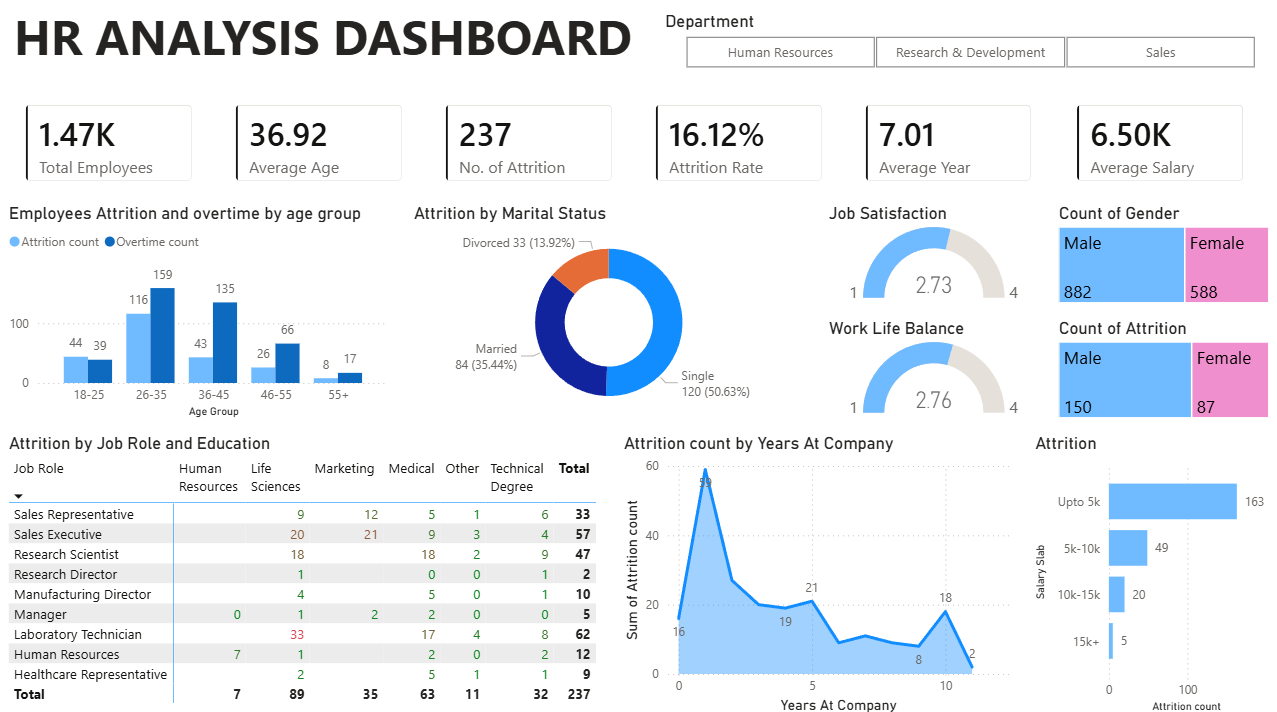

The page's visual inventory and layout, read from the dashboard file:
{"tool":"powerbi","page":{"name":"Page 1","canvas":[1280,720],"ordinal":0},"visuals":[{"type":"textbox","box":[9.8,0,651.8,75.8],"z":0},{"type":"slicer","title":"Department","fields":{"Values":["HR_Analytics.Department"]},"box":[661.6,12.2,618.8,63.6],"z":1000},{"type":"cardVisual","fields":{"Data":["Count(HR_Analytics.EmpID)"]},"box":[10,90.5,200.5,110.1],"z":2000},{"type":"cardVisual","fields":{"Data":["Avg(HR_Analytics.Age)"]},"box":[220,90.5,200.5,110.1],"z":3000},{"type":"cardVisual","fields":{"Data":["Sum(HR_Analytics.Attrition count)"]},"box":[430,90.5,200.5,110.1],"z":4000},{"type":"cardVisual","fields":{"Data":["HR_Analytics.Attrition Rate"]},"box":[640,90.5,200.5,110.1],"z":5000},{"type":"treemap","title":"Count of Gender","fields":{"Group":["HR_Analytics.Gender"],"Values":["CountNonNull(HR_Analytics.Gender)"]},"box":[1055.5,205,220,105],"z":6000},{"type":"treemap","title":"Count of Attrition","fields":{"Group":["HR_Analytics.Gender"],"Values":["Sum(HR_Analytics.Attrition count)"]},"box":[1055.5,320.1,220,105],"z":7000},{"type":"clusteredColumnChart","title":"Employees Attrition and overtime by age group","fields":{"Category":["HR_Analytics.AgeGroup","HR_Analytics.MaritalStatus","HR_Analytics.EducationField","HR_Analytics.DistanceFromHome"],"Y":["Sum(HR_Analytics.Attrition count)","Sum(HR_Analytics.Overtime count)"]},"box":[5,205,390,220],"z":8000},{"type":"gauge","title":"Job Satisfaction","fields":{"Y":["Avg(HR_Analytics.JobSatisfaction)"],"MinValue":["Min(HR_Analytics.JobSatisfaction)1"],"MaxValue":["Max(HR_Analytics.JobSatisfaction)2"]},"box":[825.4,205,220,105],"z":9000},{"type":"gauge","title":"Work Life Balance","fields":{"Y":["Avg(HR_Analytics.WorkLifeBalance)"],"MinValue":["Min(HR_Analytics.WorkLifeBalance)"],"MaxValue":["Max(HR_Analytics.WorkLifeBalance)"]},"box":[825.4,320.4,220,105],"z":10000},{"type":"donutChart","title":"Attrition by Marital Status","fields":{"Y":["Sum(HR_Analytics.Attrition count)"],"Category":["HR_Analytics.MaritalStatus","HR_Analytics.YearsAtCompany"]},"box":[410,205,400,220],"z":11000},{"type":"pivotTable","title":"Attrition by Job Role and Education","fields":{"Rows":["HR_Analytics.JobRole"],"Columns":["HR_Analytics.EducationField"],"Values":["Sum(HR_Analytics.Attrition count)"]},"box":[5,435,600,285],"z":12000},{"type":"areaChart","title":"Attrition count by Years At Company","fields":{"Category":["HR_Analytics.YearsAtCompany","HR_Analytics.DistanceFromHome"],"Y":["Sum(HR_Analytics.Attrition count)"]},"box":[620,435,395,285],"z":13000},{"type":"clusteredBarChart","title":"Attrition","fields":{"Y":["Sum(HR_Analytics.Attrition count)"],"Category":["HR_Analytics.SalarySlab","HR_Analytics.JobSatisfaction","HR_Analytics.WorkLifeBalance","HR_Analytics.EnvironmentSatisfaction"]},"box":[1030.8,435.3,249.5,284.9],"z":14000},{"type":"cardVisual","fields":{"Data":["Avg(HR_Analytics.YearsAtCompany)"]},"box":[850,90.5,199.3,110.1],"z":15000},{"type":"cardVisual","fields":{"Data":["Avg(HR_Analytics.MonthlyIncome)"]},"box":[1061,90.5,200.5,110.1],"z":16000}]}

Visuals, with their boxes in screenshot pixels (x1, y1, x2, y2), scaled from the page's 1280x720 canvas onto the 1277x712 screenshot:
textbox: box=[10, 0, 660, 75]
"Department" slicer: box=[660, 12, 1276, 75]
cardVisual - Count(HR_Analytics.EmpID): box=[10, 89, 210, 198]
cardVisual - Avg(HR_Analytics.Age): box=[219, 89, 420, 198]
cardVisual - Sum(HR_Analytics.Attrition count): box=[429, 89, 629, 198]
cardVisual - HR_Analytics.Attrition Rate: box=[638, 89, 839, 198]
"Count of Gender" treemap: box=[1053, 203, 1273, 307]
"Count of Attrition" treemap: box=[1053, 317, 1273, 420]
"Employees Attrition and overtime by age group" clusteredColumnChart: box=[5, 203, 394, 420]
"Job Satisfaction" gauge: box=[823, 203, 1043, 307]
"Work Life Balance" gauge: box=[823, 317, 1043, 421]
"Attrition by Marital Status" donutChart: box=[409, 203, 808, 420]
"Attrition by Job Role and Education" pivotTable: box=[5, 430, 604, 711]
"Attrition count by Years At Company" areaChart: box=[619, 430, 1013, 711]
"Attrition" clusteredBarChart: box=[1028, 430, 1276, 711]
cardVisual - Avg(HR_Analytics.YearsAtCompany): box=[848, 89, 1047, 198]
cardVisual - Avg(HR_Analytics.MonthlyIncome): box=[1059, 89, 1259, 198]
